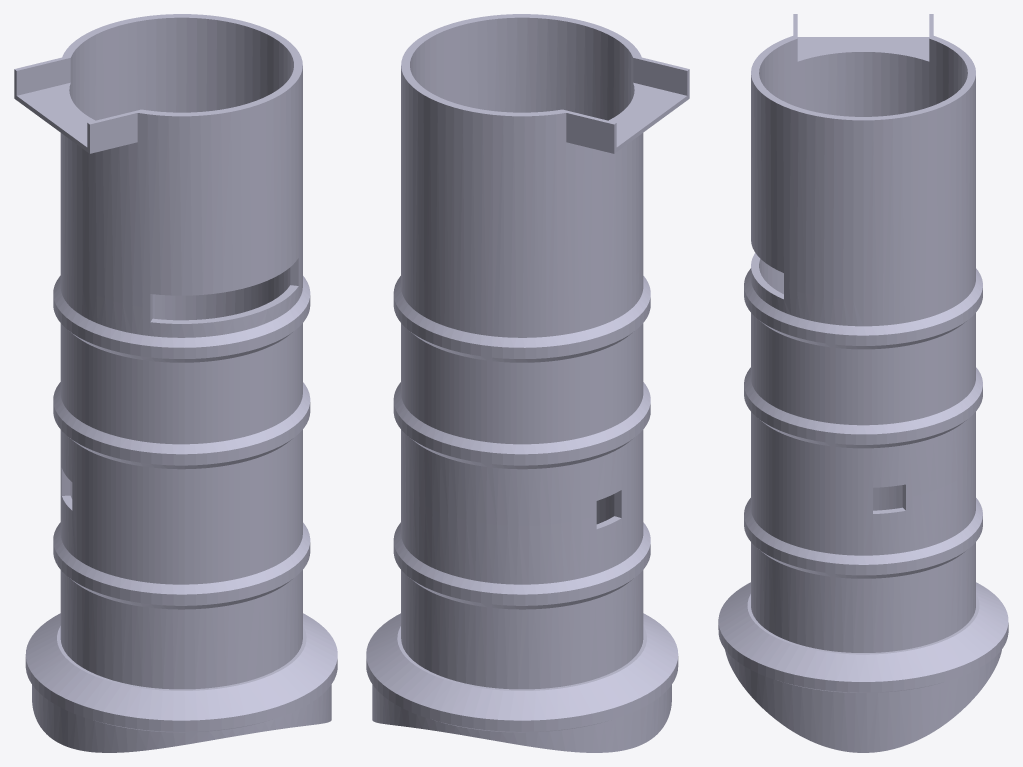
The picture shows the model from 3 angles, left to right: view 1: azimuth 30°, elevation 25°; view 2: azimuth 150°, elevation 25°; view 3: azimuth 270°, elevation 25°; orthographic projection. The views are drawn at different scales.
Parts seen in each view (by area): view 1: null; view 2: null; view 3: null.
Boxes of the visible parts, <box> form: null: <box>14,14,337,752</box>; null: <box>366,14,689,752</box>; null: <box>718,14,1008,752</box>.
Size of the model in its own units: 24.99 by 59.07 by 24.99.
